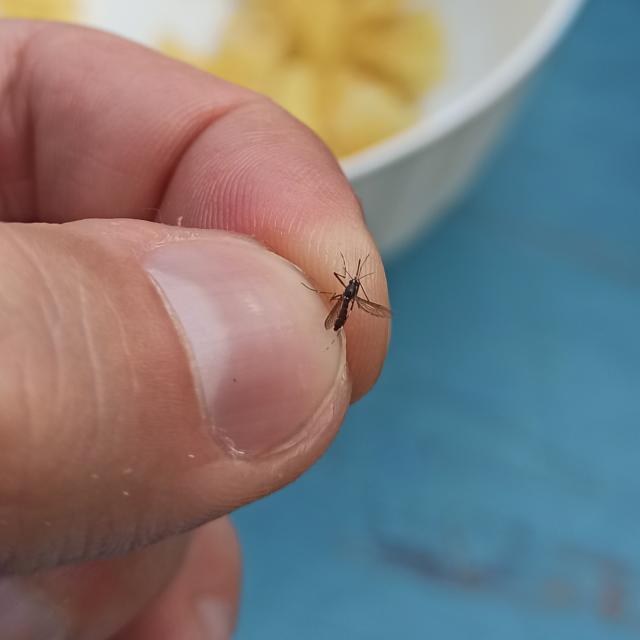albopictus: (290, 243, 395, 349)
